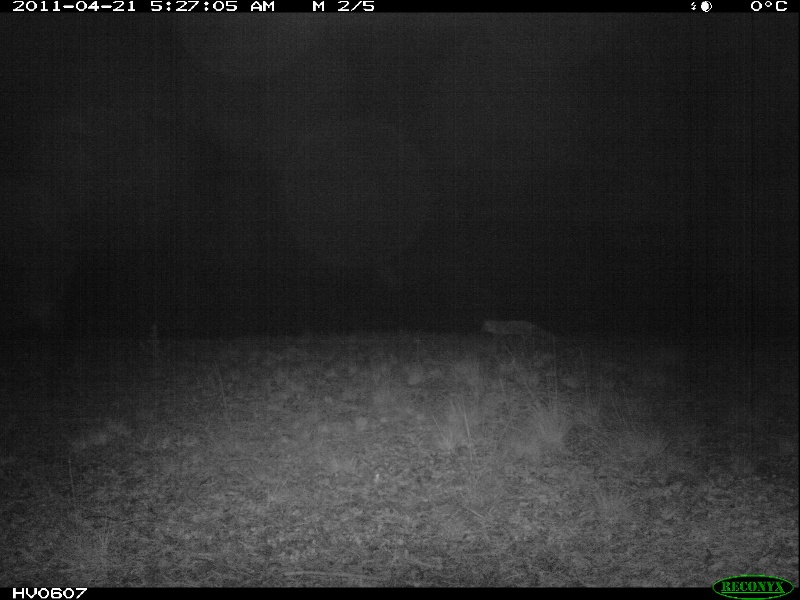fox: (481, 319, 550, 341)
